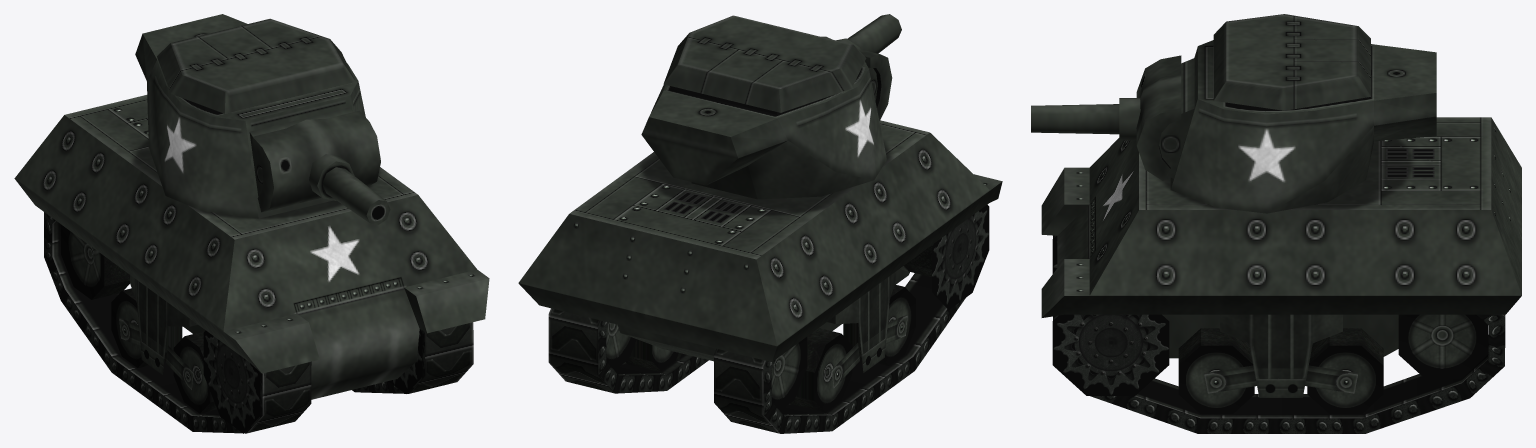
File: M36_SD_Model_Track.FBX
The picture shows the model from 3 angles, left to right: view 1: azimuth 30°, elevation 25°; view 2: azimuth 150°, elevation 25°; view 3: azimuth 270°, elevation 25°; orthographic projection. The views are drawn at different scales.
Visible parts, largest first — view 1: Body, Turret, RightTrack, Cannon, LeftTrack; view 2: Body, Turret, RightTrack, LeftTrack, Cannon; view 3: Body, LeftTrack, Turret, Cannon.
Boxes of the visible parts, <box> form: Body: <box>14,95,489,399</box>; Turret: <box>135,14,365,218</box>; RightTrack: <box>44,212,311,433</box>; Cannon: <box>252,110,390,224</box>; LeftTrack: <box>352,322,473,393</box>; Body: <box>518,120,1002,361</box>; Turret: <box>641,15,886,199</box>; RightTrack: <box>714,204,989,433</box>; LeftTrack: <box>548,308,708,393</box>; Cannon: <box>821,14,901,120</box>; Body: <box>1041,117,1521,358</box>; LeftTrack: <box>1052,314,1505,433</box>; Turret: <box>1159,14,1436,213</box>; Cannon: <box>1031,55,1181,180</box>.
Size of the model in its own units: 1.07 by 1.29 by 1.74.
2 materials, 2 textured.
